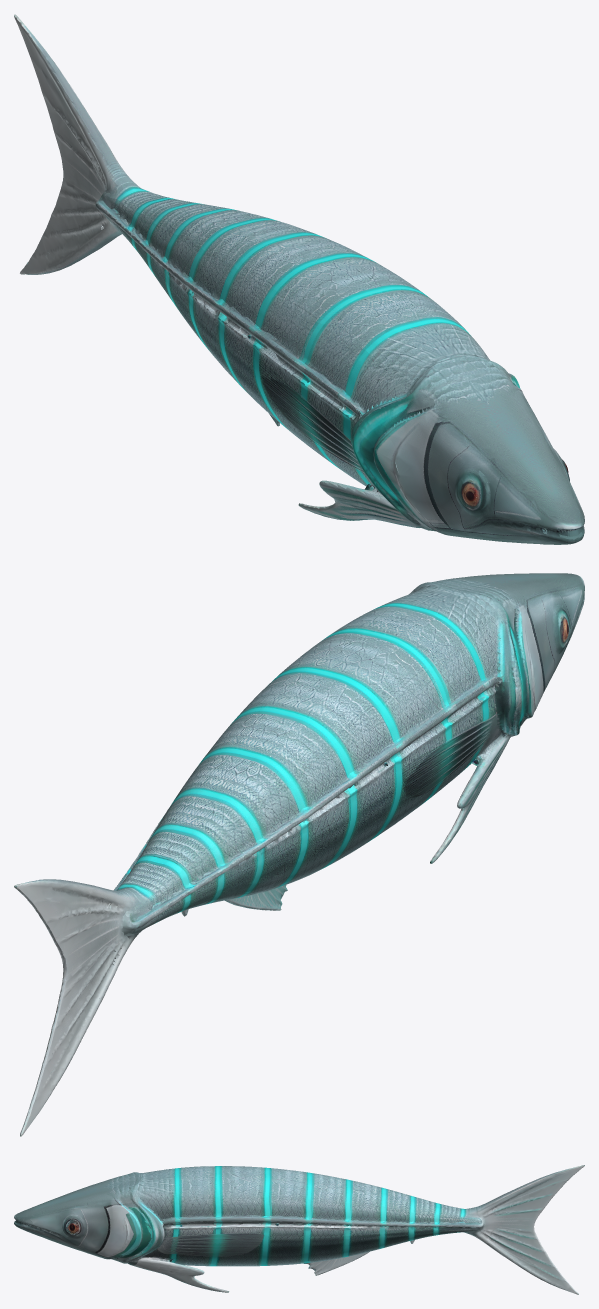
File: fish_silver_ladder.glb
The picture shows the model from 3 angles, top to bottom: view 1: azimuth 30°, elevation 25°; view 2: azimuth 150°, elevation 25°; view 3: azimuth 270°, elevation 25°; orthographic projection. The views are drawn at different scales.
Size of the model in its own units: 0.3304 by 0.4764 by 1.9.
Materials: 1 (1 with a texture image).
